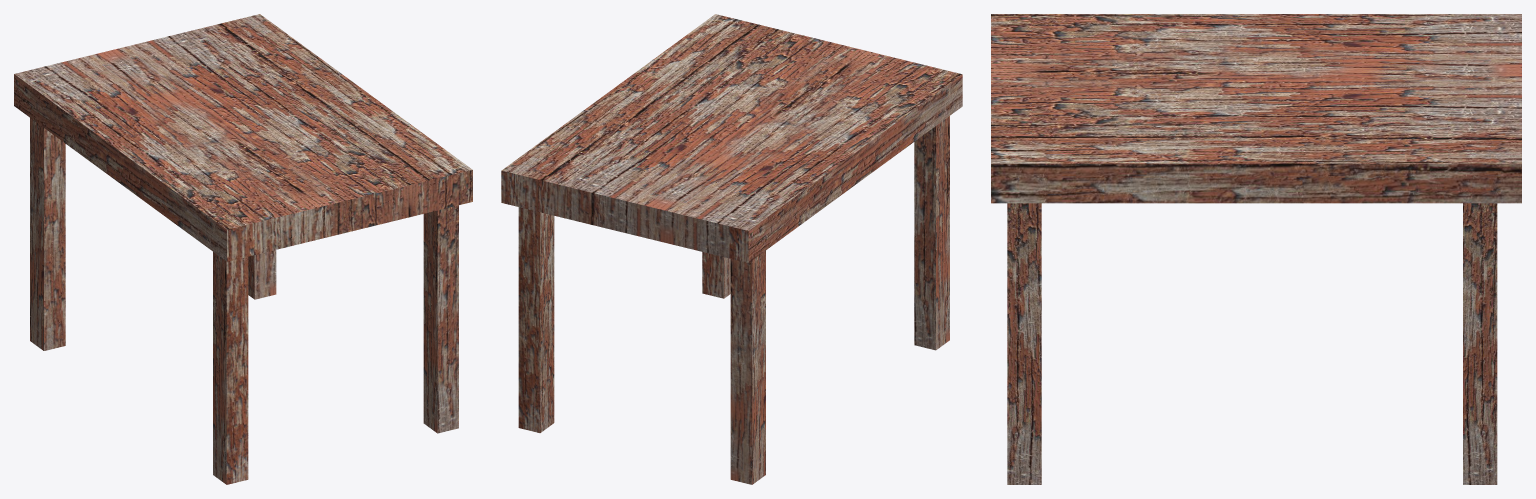
Rendered from Table.FBX.
The picture shows the model from 3 angles, left to right: view 1: azimuth 30°, elevation 25°; view 2: azimuth 150°, elevation 25°; view 3: azimuth 270°, elevation 25°; orthographic projection. The views are drawn at different scales.
Visible parts, largest first — view 1: Box001; view 2: Box001; view 3: Box001.
Boxes of the visible parts, x1,y1,x2,y2 form: Box001: (14,14,472,484); Box001: (501,14,962,484); Box001: (991,14,1521,484).
Bounding box in the file's own units: 39.37 × 40 × 59.06.
1 material, 1 textured.
